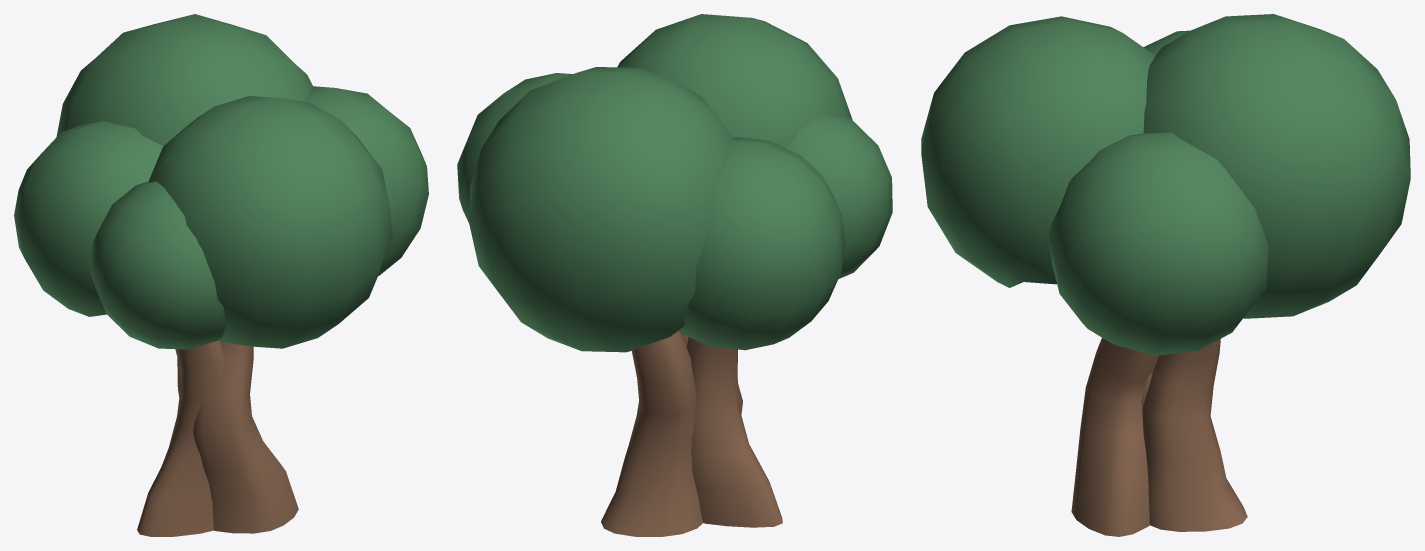
File: Tree_B.fbx
3 renders of one model, left to right at view 1: azimuth 30°, elevation 25°; view 2: azimuth 150°, elevation 25°; view 3: azimuth 270°, elevation 25°, orthographic. The views are drawn at different scales.
Visible parts, largest first — view 1: TreeLeaves_B, TreeTrunk_B; view 2: TreeLeaves_B, TreeTrunk_B; view 3: TreeLeaves_B, TreeTrunk_B.
Boxes of the visible parts, box(x1,y1,x2,y2) form: TreeLeaves_B: box(14, 14, 428, 349); TreeTrunk_B: box(137, 340, 298, 536); TreeLeaves_B: box(457, 14, 892, 352); TreeTrunk_B: box(601, 331, 782, 536); TreeLeaves_B: box(921, 14, 1410, 355); TreeTrunk_B: box(1071, 338, 1247, 536).
Size of the model in its own units: 81.3 by 94.01 by 85.59.
